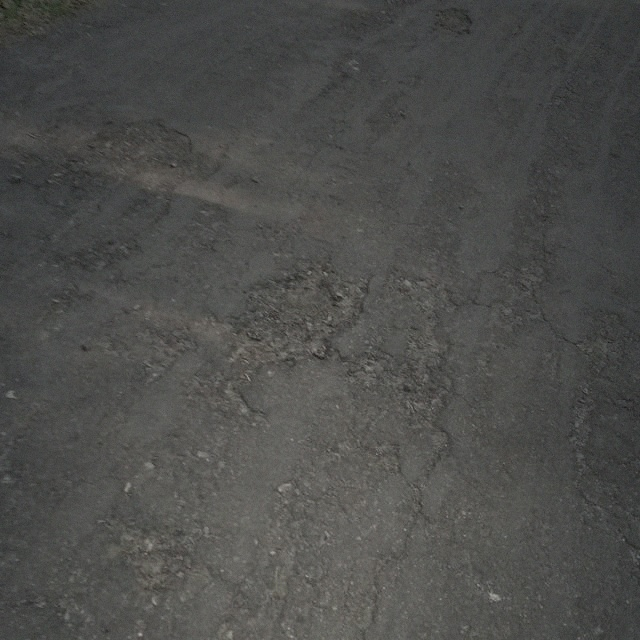pothole: (220, 263, 356, 369), (84, 116, 194, 169), (428, 5, 476, 39)
